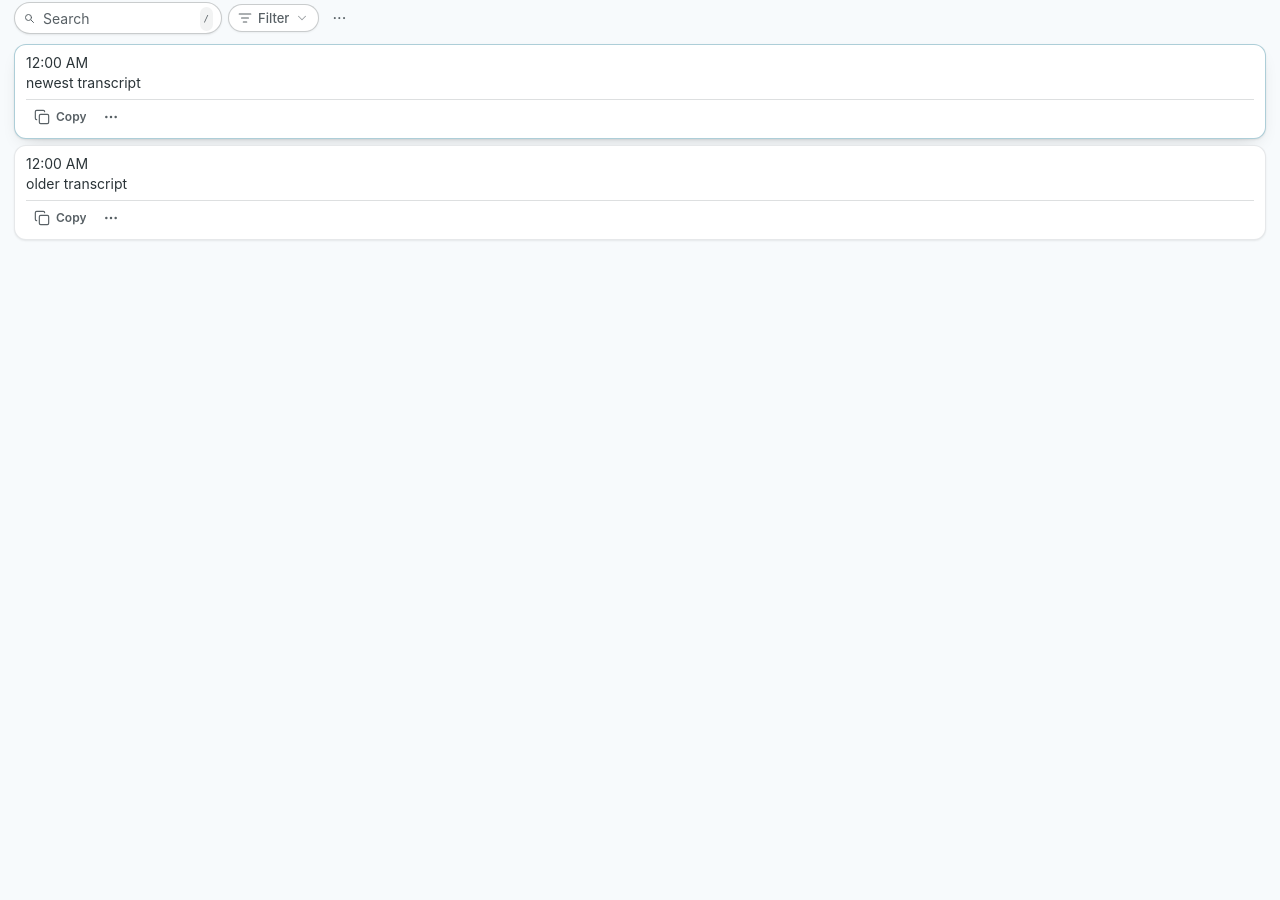
Test: Sonic Canvas component details › offers Correct and Teach only on the newest history entry
What coordinates should you click on to do the following:
click the button named "More transcript actions" below "newest transcript"
I would click on:
 (112, 117)
Its box is [98,104,124,130].
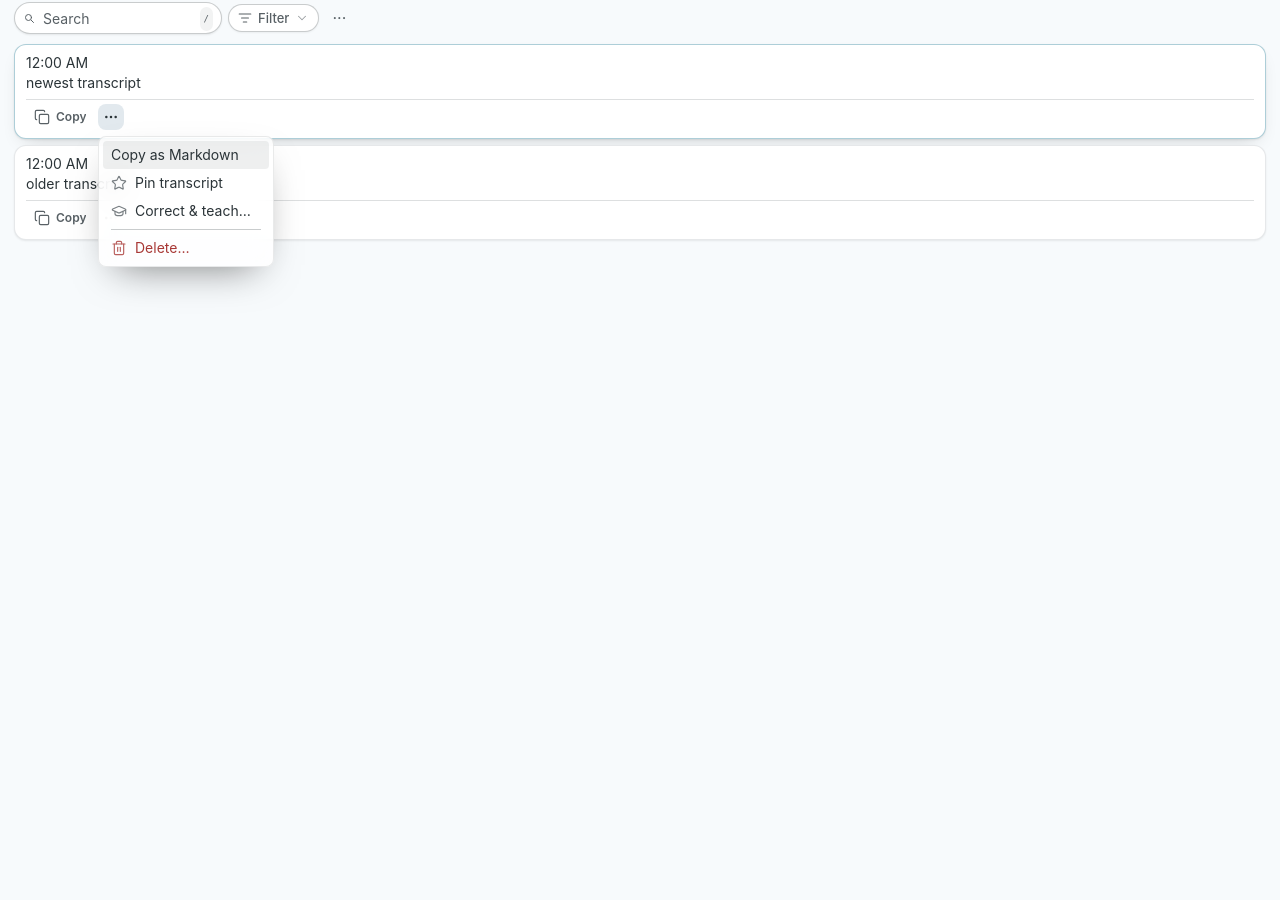
What coordinates should you click on to do the following:
click the menu item "Correct & teach…"
I would click on:
 (181, 210)
Its box is [111,202,251,219].
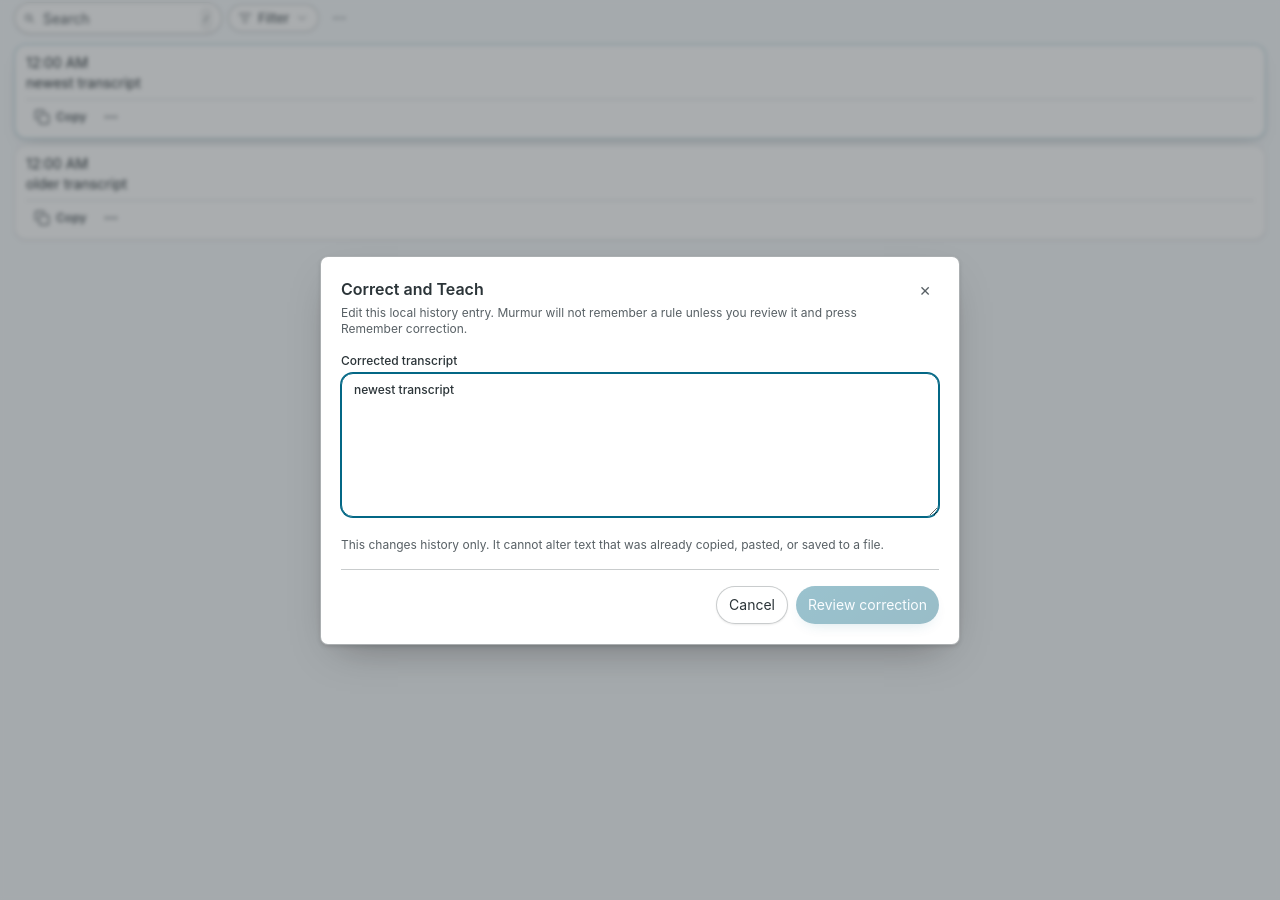
Result: the text box named "Corrected transcript" holds "newest transcript" at [341,372,939,516]
